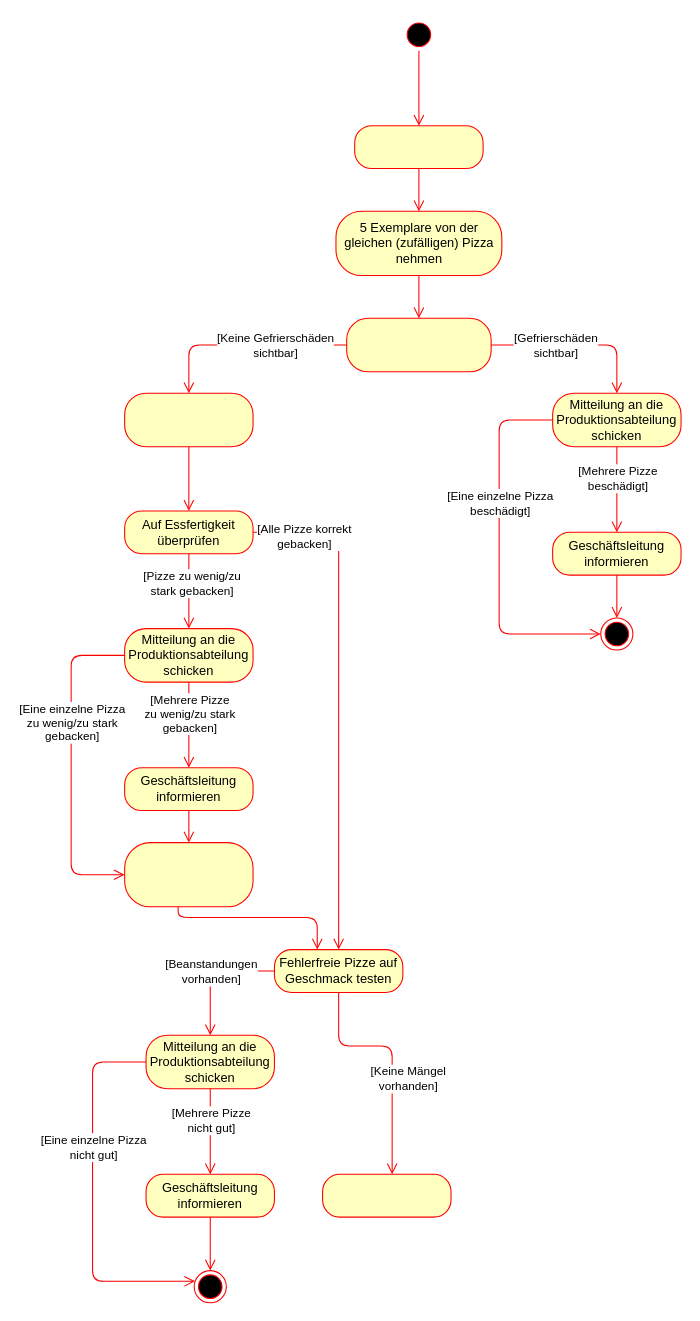
The diagram is 700 pixels wide and 1321 high, and some of its shapes have lost their labels. The shapes that lost their labels are listed below. From the top down, each one's centre as x and y in pixels, then its label:
At [418,147]: "Pizza zufällig auswählen".
At [418,344]: "Auf sichtbare Gefrierschäden überprüfen".
At [188,419]: "Pizze bei 230° Celsius während 20 Minuten erhitzen".
At [188,874]: "Zu wenig/zu stark gebackenen Pizzen aussortieren".
At [386,1195]: "Qualitätskontrolle als abgeschlossen markieren".
